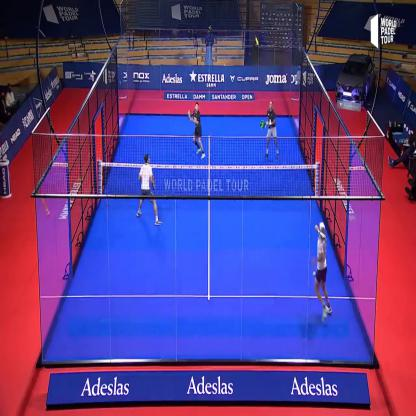ball: (252, 31, 260, 49)
